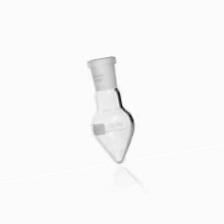Pear shaped flask: (80, 54, 139, 165)
